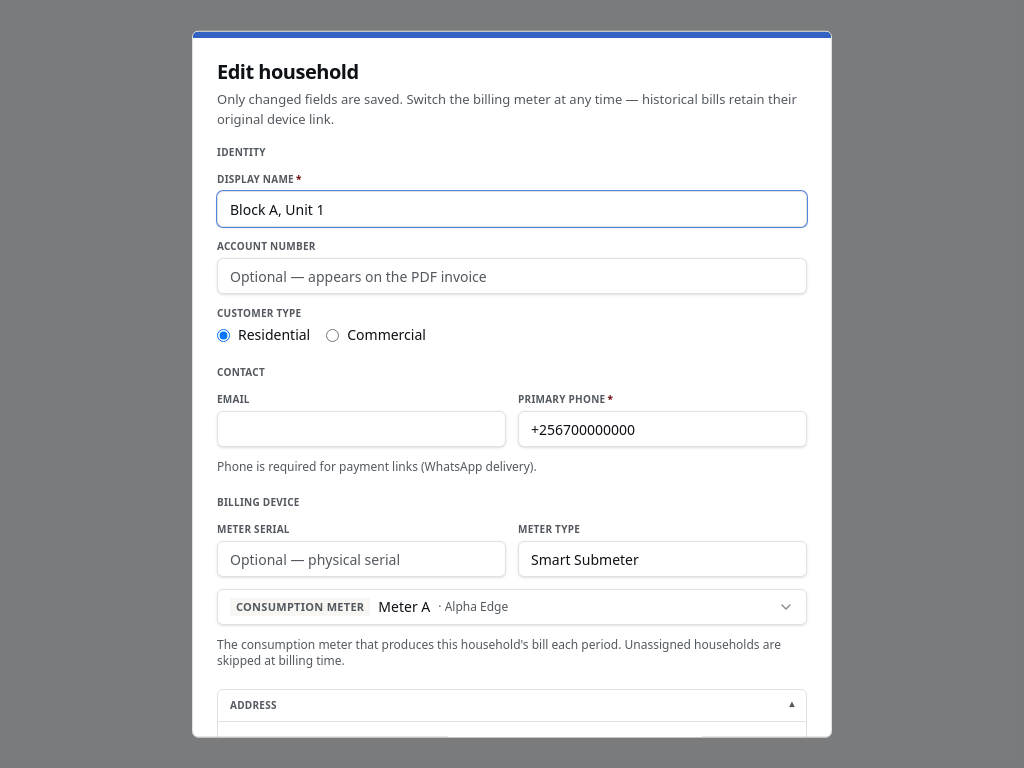
Test: HouseholdEditDialog (#145) › (6) #155 — phone-required rule disables save AND surfaces helper
Clear the field labelled "Primary phone*" at (662, 429), box [518,411,807,447]
(page scrolled)
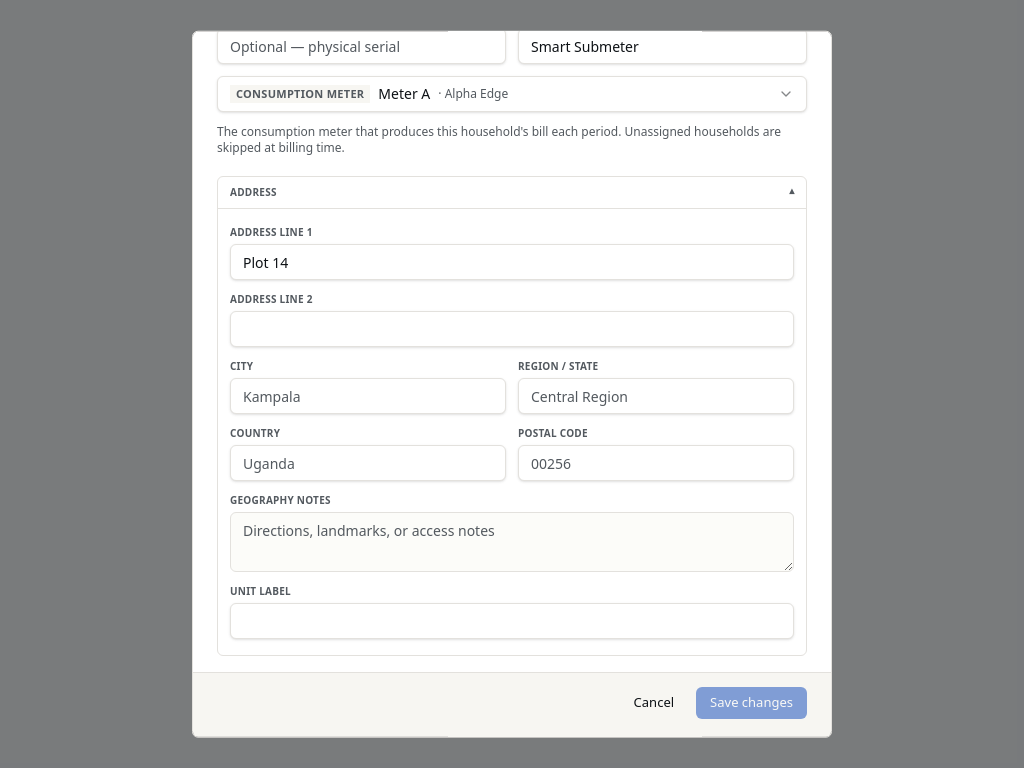
Check: the button "Save changes" is disabled, box [696,687,807,719]
